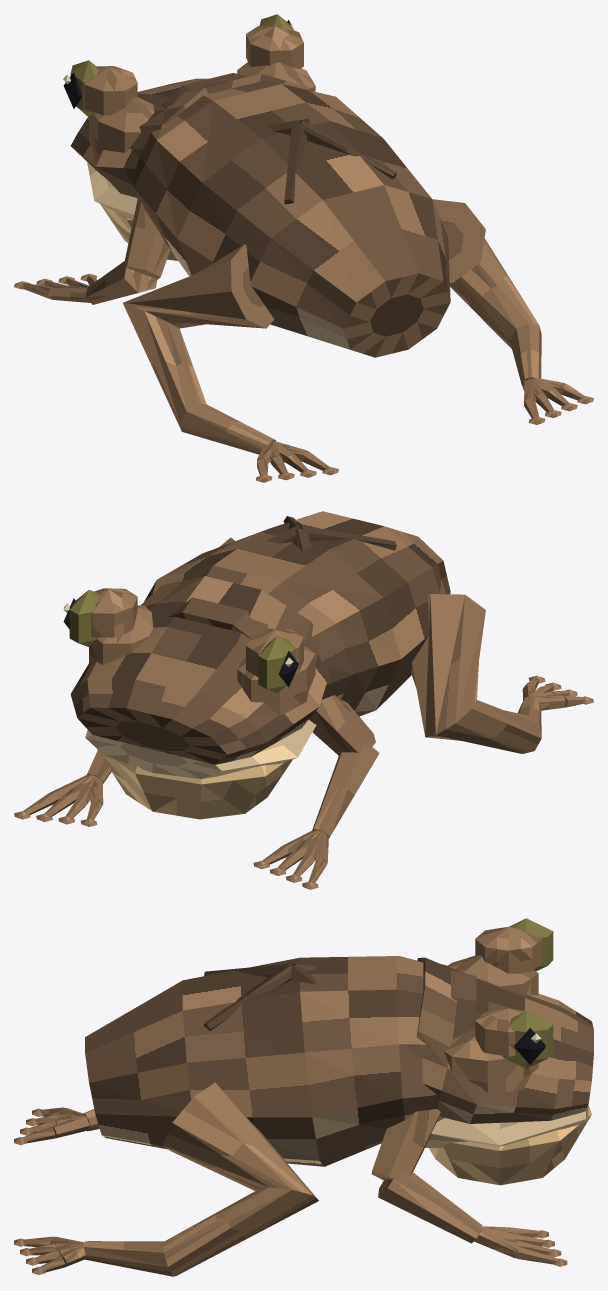
File: mon_vocal_frog.glb
3 renders of one model, top to bottom at view 1: azimuth 30°, elevation 25°; view 2: azimuth 150°, elevation 25°; view 3: azimuth 270°, elevation 25°, orthographic.
Parts seen in each view (by area): view 1: closed_body; view 2: closed_body; view 3: closed_body.
Part boxes in pixels (left/top/right/bottom): closed_body: left=14, top=14, right=593, bottom=482; closed_body: left=14, top=511, right=593, bottom=889; closed_body: left=14, top=918, right=593, bottom=1276.
Bounding box in the file's own units: 0.0581 × 0.0353 × 0.0799.
Materials: 1 (1 with a texture image).
